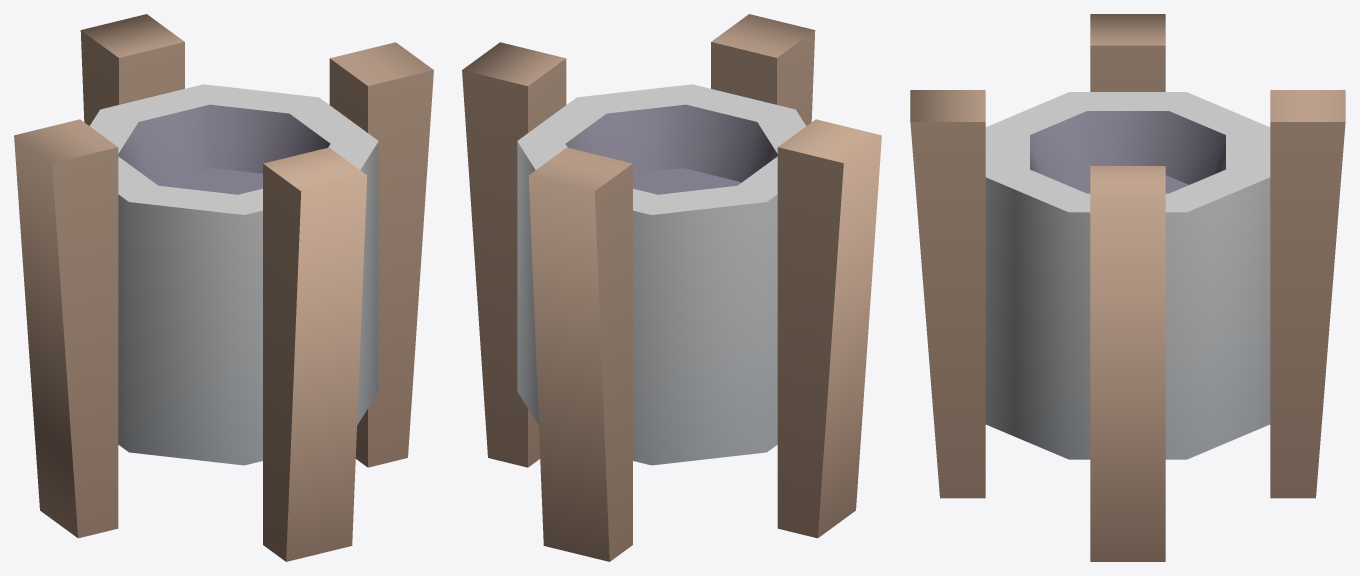
File: plant-pot-design.glb
3 renders of one model, left to right at view 1: azimuth 30°, elevation 25°; view 2: azimuth 150°, elevation 25°; view 3: azimuth 270°, elevation 25°, orthographic.
Visible parts, largest first — view 1: plant-pot-design; view 2: plant-pot-design; view 3: plant-pot-design.
Part boxes in pixels (box(x1,y1,x2,y2)): plant-pot-design: box(14, 14, 433, 561); plant-pot-design: box(462, 14, 881, 561); plant-pot-design: box(910, 14, 1345, 561).
Bounding box in the file's own units: 0.3158 × 0.3015 × 0.3158.
